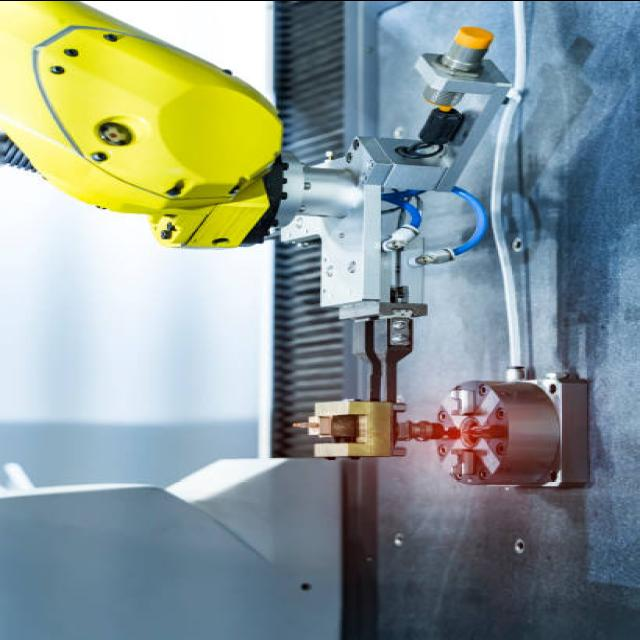Robotic-arm: (0, 0, 509, 298)
